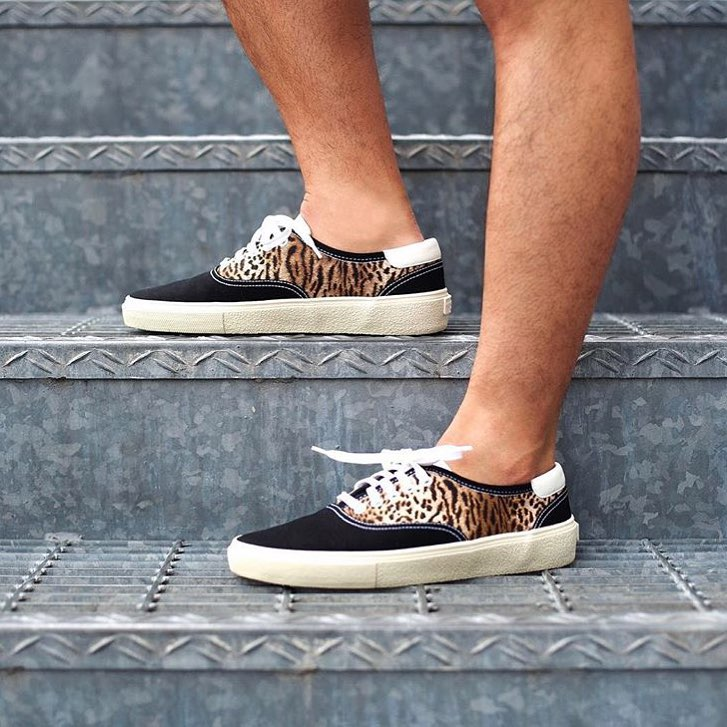sneaker: (208, 416, 599, 616), (105, 200, 472, 353)
